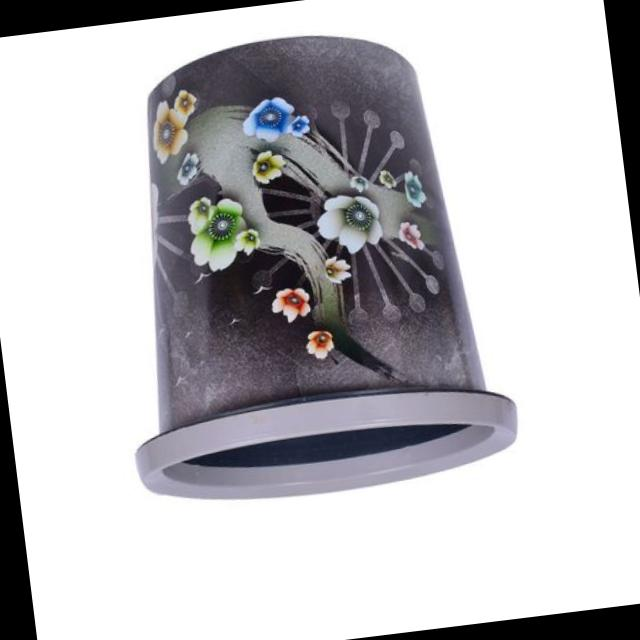dustbin: (83, 11, 530, 524)
